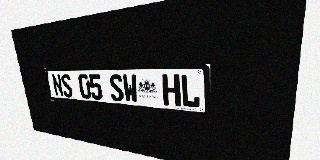0: (77, 74, 92, 99)
5: (88, 74, 103, 100)
H: (162, 74, 181, 107)
L: (180, 74, 200, 108)
N: (51, 74, 64, 97)
S: (109, 74, 124, 102), (60, 74, 74, 98)
W: (122, 74, 139, 103)
